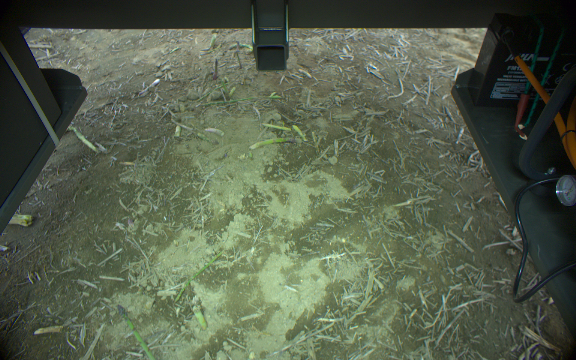aspa: (173, 249, 225, 303), (115, 303, 157, 360), (197, 93, 282, 105), (69, 125, 101, 156), (249, 134, 301, 150), (190, 302, 208, 331), (259, 117, 291, 132), (290, 121, 308, 144), (228, 41, 253, 54), (206, 32, 220, 50), (210, 59, 220, 81)
